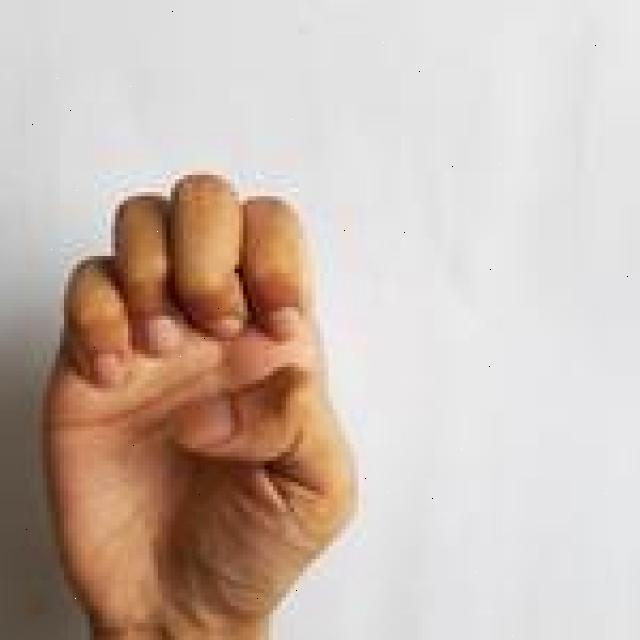E: (42, 173, 360, 640)
